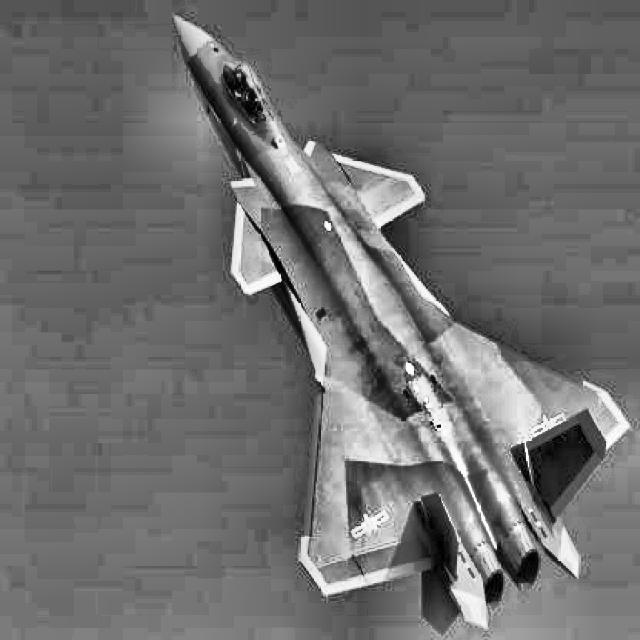J20: (172, 14, 632, 635)
